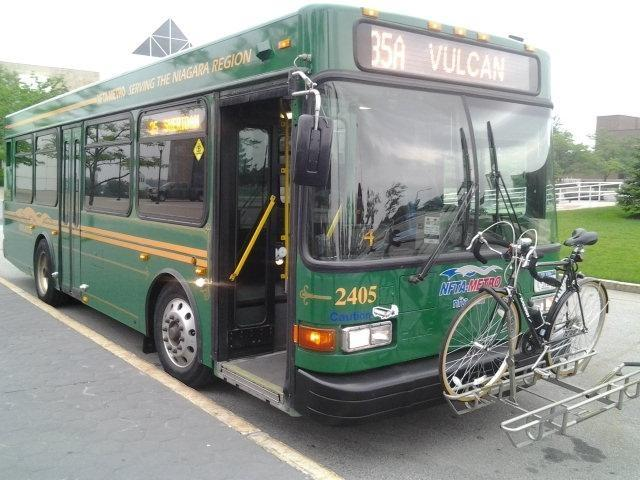bicycle: (442, 228, 609, 406)
bus: (1, 0, 562, 425)
